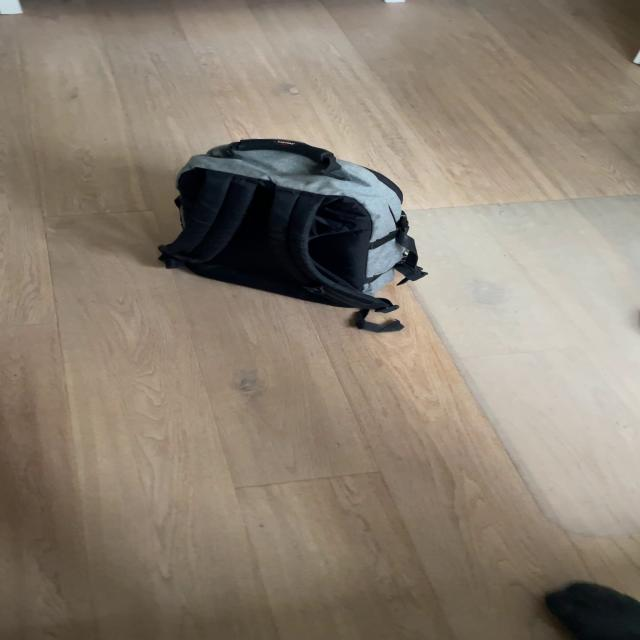backpack: (151, 134, 442, 324)
